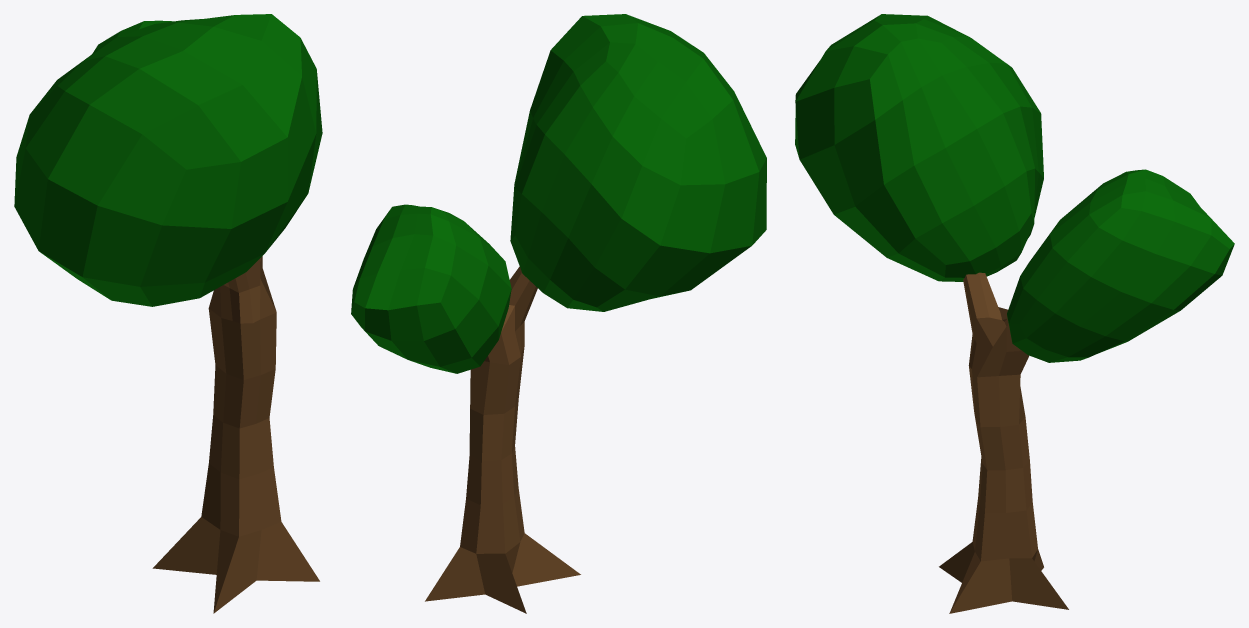
The model's file is Park2_T7.glb.
3 renders of one model, left to right at view 1: azimuth 30°, elevation 25°; view 2: azimuth 150°, elevation 25°; view 3: azimuth 270°, elevation 25°, orthographic. The views are drawn at different scales.
Parts seen in each view (by area): view 1: Park2-T7; view 2: Park2-T7; view 3: Park2-T7.
Boxes of the visible parts, x1,y1,x2,y2 form: Park2-T7: (14, 14, 322, 613); Park2-T7: (351, 14, 766, 613); Park2-T7: (795, 14, 1234, 613).
Bounding box in the file's own units: 25.05 × 45.68 × 34.48.
